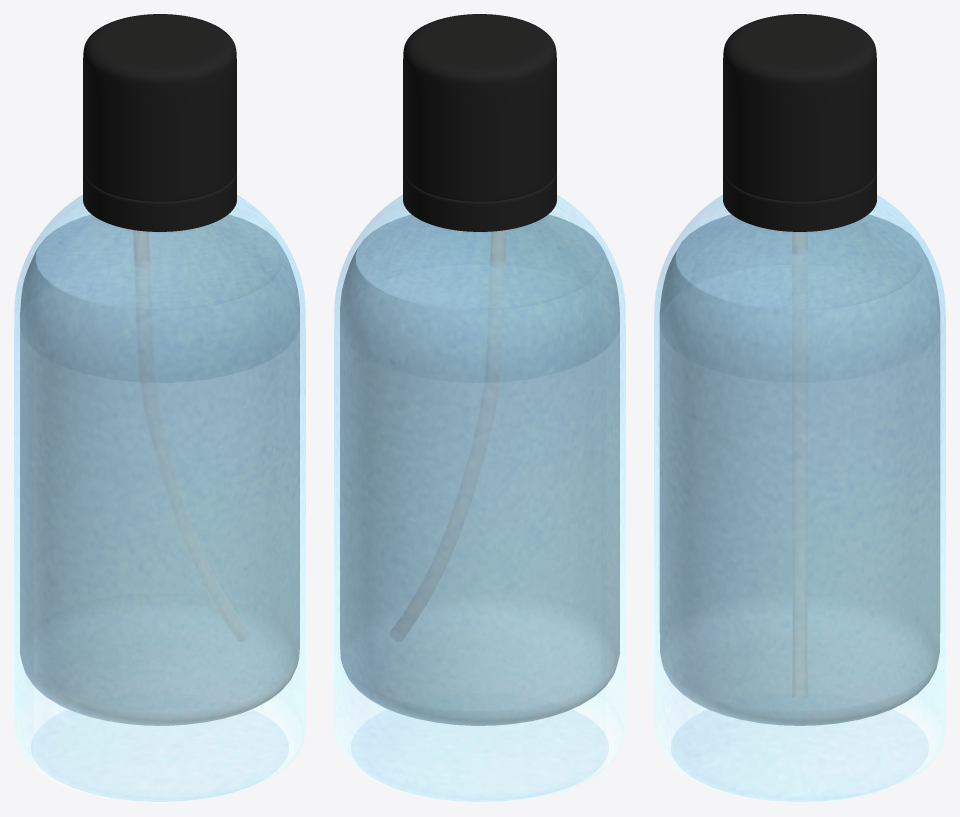
The picture shows the model from 3 angles, left to right: view 1: azimuth 30°, elevation 25°; view 2: azimuth 150°, elevation 25°; view 3: azimuth 270°, elevation 25°; orthographic projection.
Visible parts, largest first — view 1: b, liquide1, c, s; view 2: b, liquide1, c, s; view 3: b, liquide1, c, s.
Part boxes in pixels (bbox=[...]): b: bbox=[14, 194, 305, 802]; liquide1: bbox=[20, 214, 299, 725]; c: bbox=[83, 14, 236, 231]; s: bbox=[133, 230, 248, 638]; b: bbox=[334, 194, 625, 802]; liquide1: bbox=[340, 214, 619, 725]; c: bbox=[403, 14, 556, 231]; s: bbox=[391, 230, 506, 638]; b: bbox=[654, 195, 945, 802]; liquide1: bbox=[659, 214, 940, 725]; c: bbox=[723, 14, 876, 231]; s: bbox=[792, 232, 807, 696].
Bounding box in the file's own units: 2.93 × 7.83 × 2.93.
Materials: 4 (2 with a texture image).
